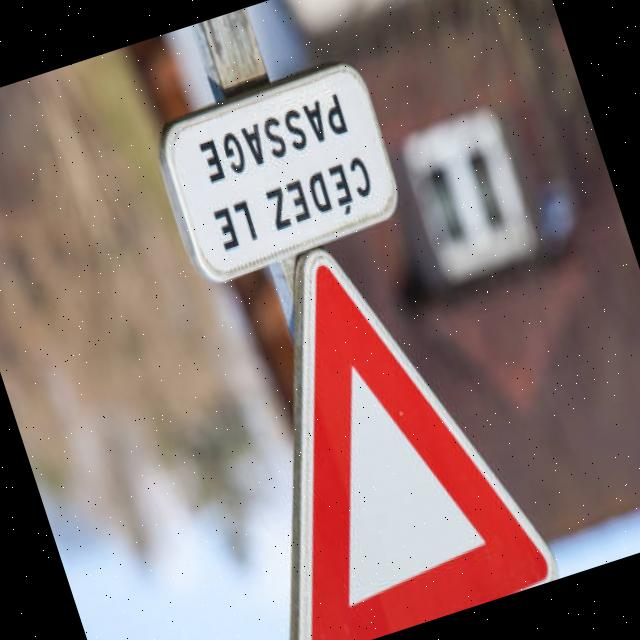give_way: (165, 203, 575, 640)
